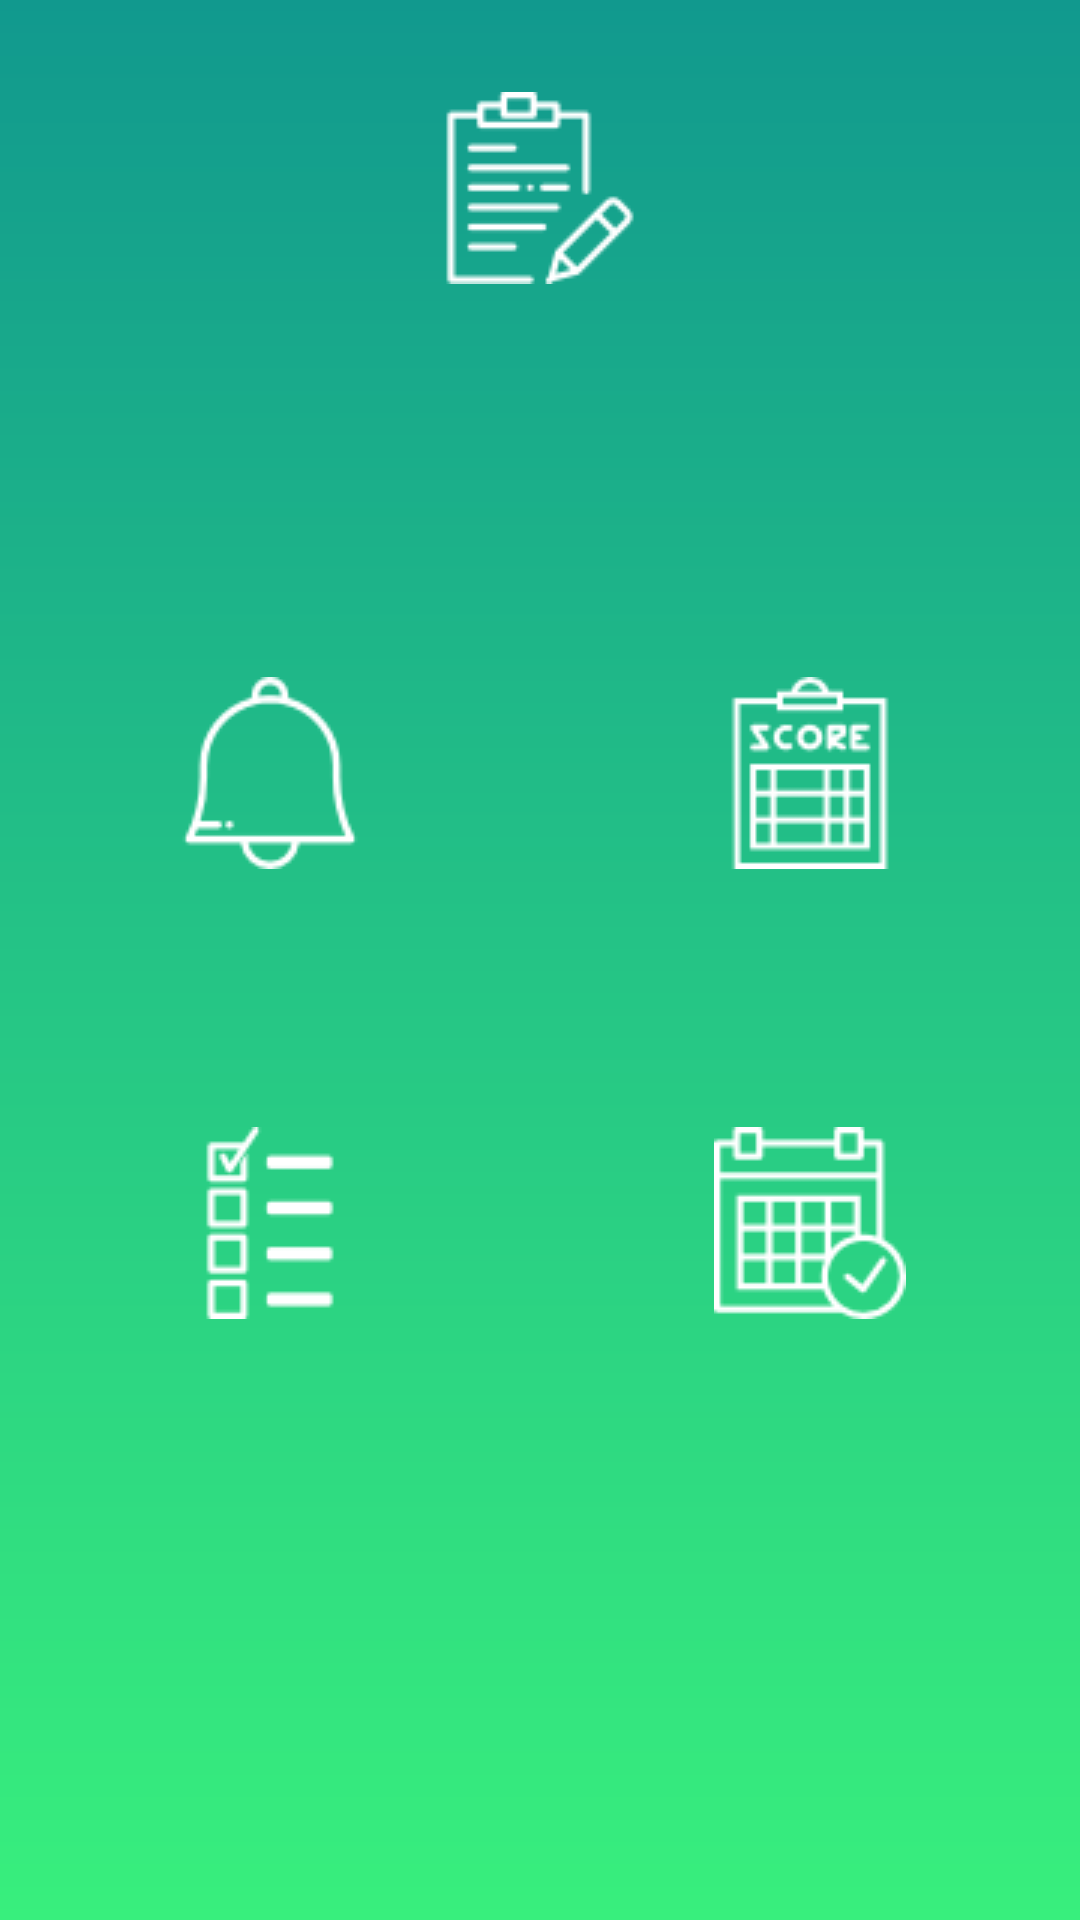

Locate icon controls on the screen. Image size 1080w x 1920h, boxes as (x1=x1, y1=y1, x2=x2, y2=y2).
notepad: (x1=446, y1=92, x2=634, y2=284)
notification: (x1=184, y1=677, x2=356, y2=869)
scoreboard: (x1=731, y1=677, x2=889, y2=869)
testquiz: (x1=206, y1=1127, x2=334, y2=1319)
